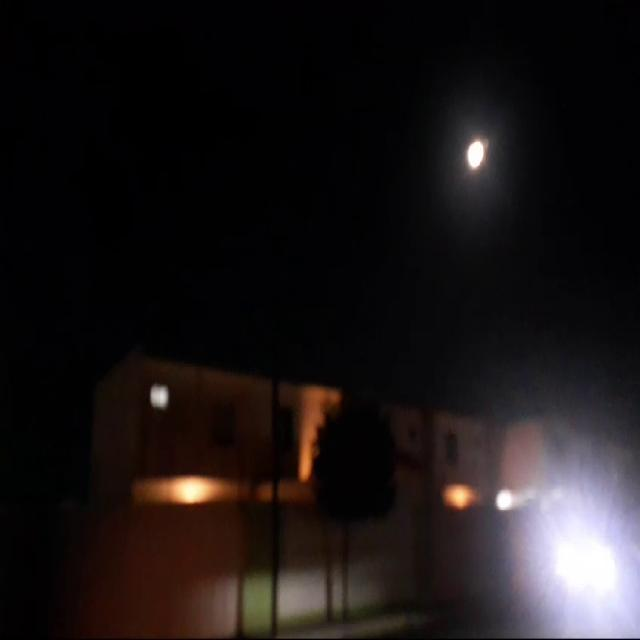moon: (464, 138, 484, 172)
